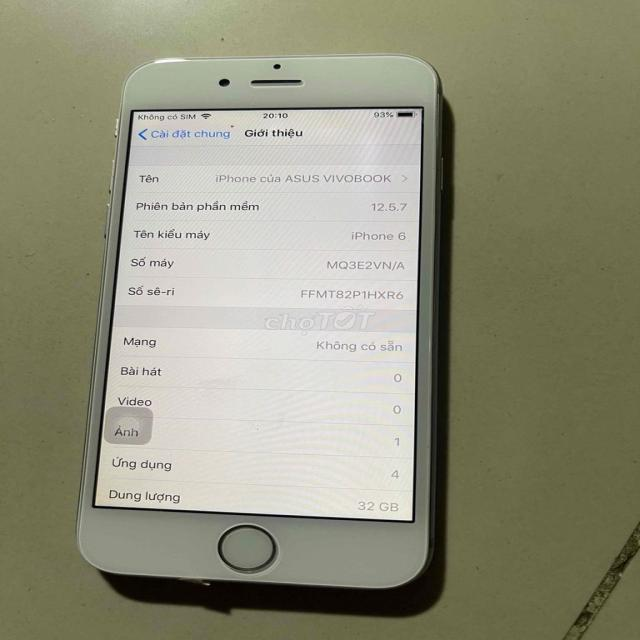gen_6: (70, 52, 460, 610)
